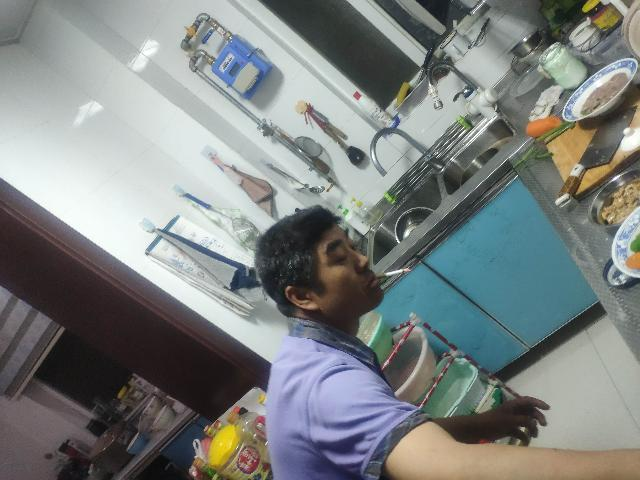Smoking: (375, 268, 411, 280)
